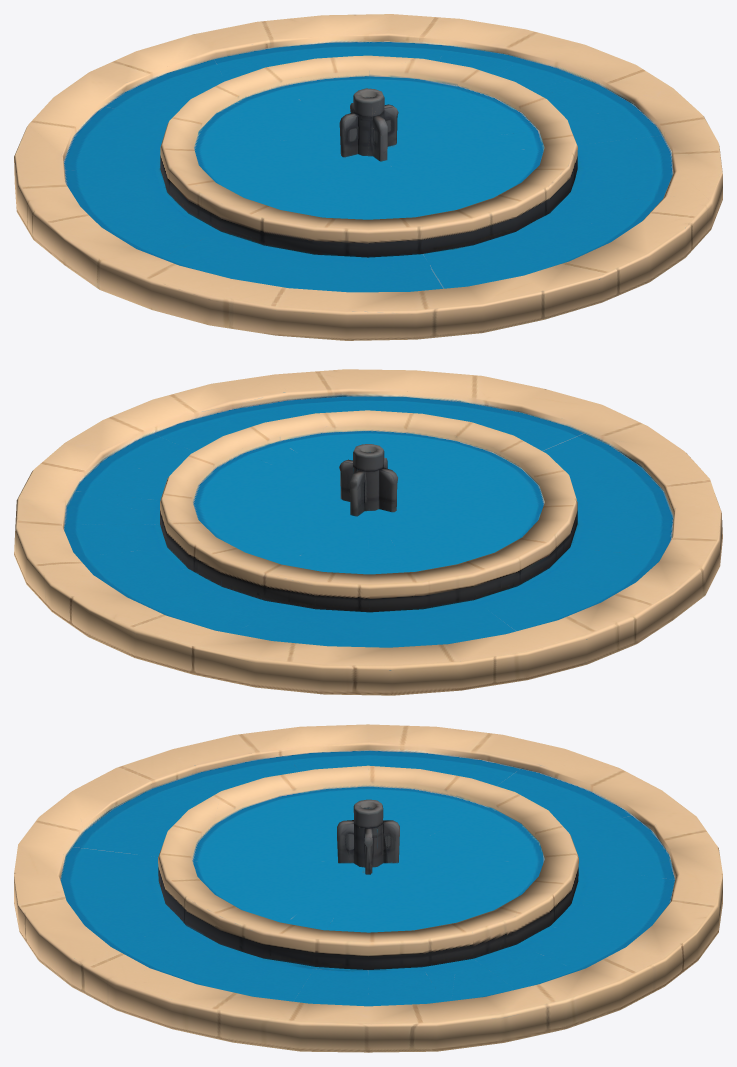
File: Fountain.fbx
The picture shows the model from 3 angles, top to bottom: view 1: azimuth 30°, elevation 25°; view 2: azimuth 150°, elevation 25°; view 3: azimuth 270°, elevation 25°; orthographic projection.
Visible parts, largest first — view 1: Fountain; view 2: Fountain; view 3: Fountain.
Part boxes in pixels (x1,y1,x2,y2): Fountain: [14, 14, 722, 340]; Fountain: [14, 369, 722, 695]; Fountain: [14, 724, 722, 1052].
Bounding box in the file's own units: 745 × 123 × 745.
Materials: 1 (1 with a texture image).
